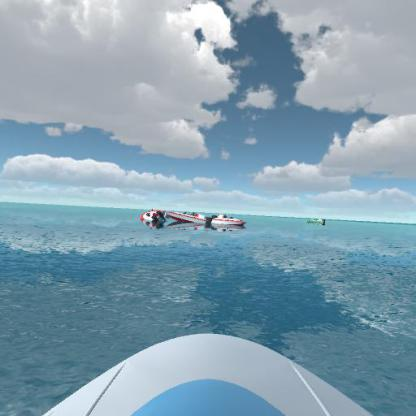usv0: (306, 214, 327, 228)
usv3: (168, 207, 207, 230), (207, 212, 248, 230), (140, 209, 164, 225)
